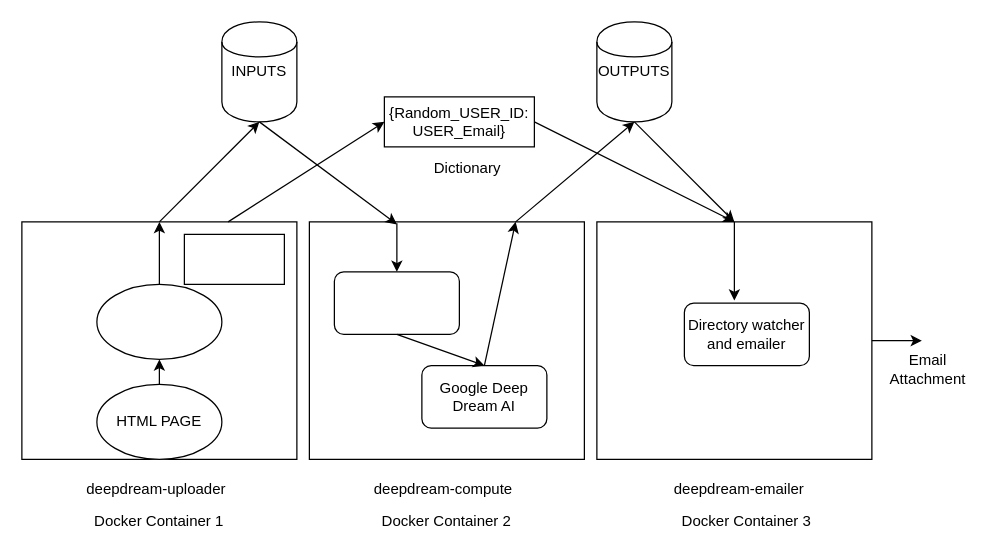
Some shapes in this 994 by 556 pixel diagram are drawn without their labels. The shapes that lost their labels are listed below. From the top down, each one's centre as x and y in pixels, then its label:
At point (233, 258): "Random number".
At point (159, 321): "FLASK API".
At point (396, 302): "Queues and Threads".
